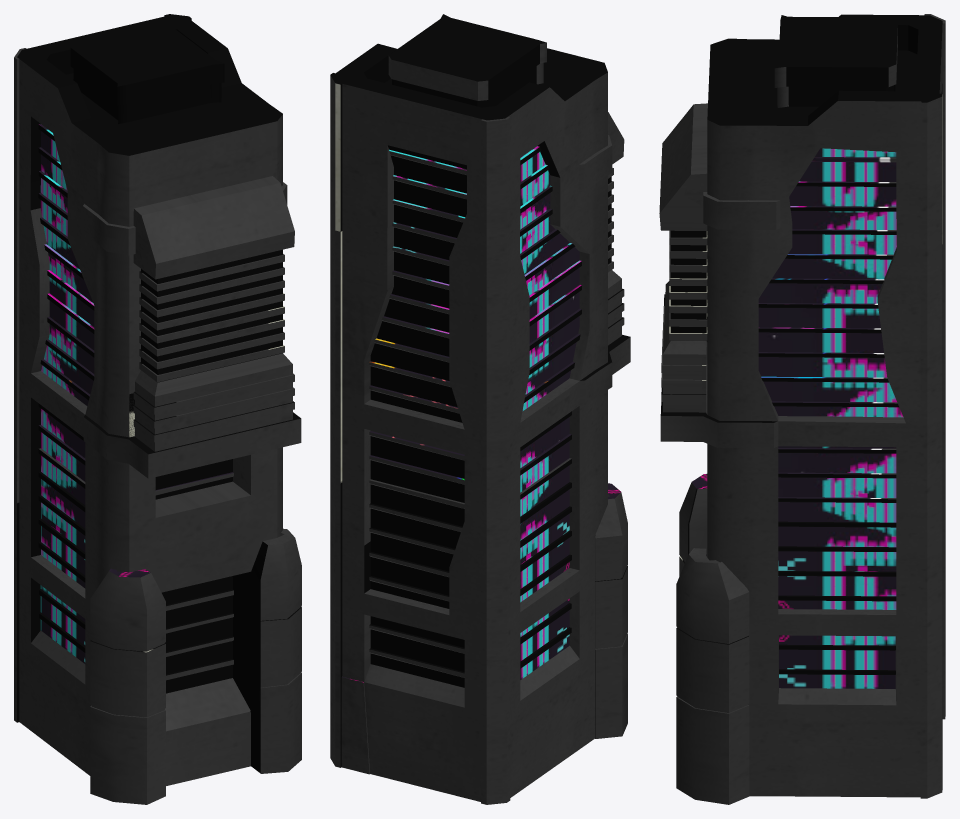
File: Building3.fbx
3 views of the same model, side by side, from view 1: azimuth 30°, elevation 25°; view 2: azimuth 150°, elevation 25°; view 3: azimuth 270°, elevation 25° (orthographic). The views are drawn at different scales.
Parts seen in each view (by area): view 1: w; view 2: w; view 3: w.
Boxes of the visible parts, left/top/right/bottom form: w: left=14, top=14, right=301, bottom=804; w: left=330, top=14, right=630, bottom=804; w: left=659, top=14, right=945, bottom=804.
Size of the model in its own units: 7.65 by 24.35 by 8.87.
